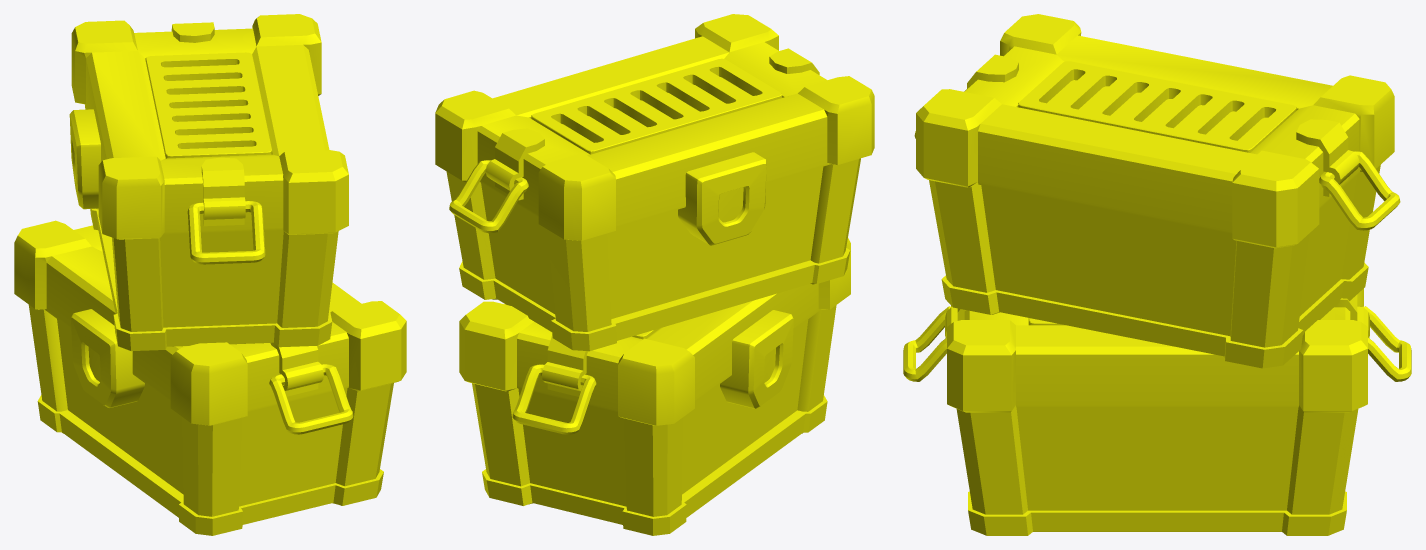
3 renders of one model, left to right at view 1: azimuth 30°, elevation 25°; view 2: azimuth 150°, elevation 25°; view 3: azimuth 270°, elevation 25°, orthographic. The views are drawn at different scales.
Visible parts, largest first — view 1: Military_base_box_1; view 2: Military_base_box_1; view 3: Military_base_box_1.
Part boxes in pixels (x1,y1,x2,y2): Military_base_box_1: [14, 14, 406, 535]; Military_base_box_1: [435, 14, 874, 535]; Military_base_box_1: [903, 14, 1411, 535].
Bounding box in the file's own units: 0.00864 × 0.00921 × 0.0108.
Materials: 1 (1 with a texture image).
